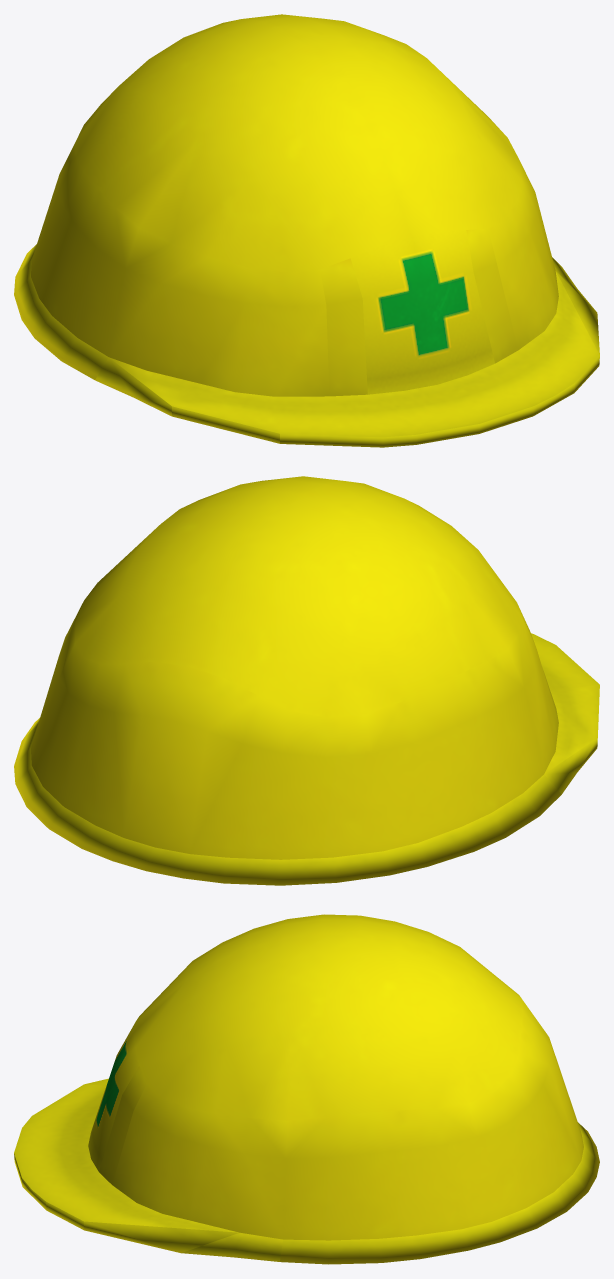
The model's file is constructionCap.fbx.
3 renders of one model, top to bottom at view 1: azimuth 30°, elevation 25°; view 2: azimuth 150°, elevation 25°; view 3: azimuth 270°, elevation 25°, orthographic. The views are drawn at different scales.
Parts seen in each view (by area): view 1: baby_hat; view 2: baby_hat; view 3: baby_hat.
Boxes of the visible parts, left/top/right/bottom form: baby_hat: left=14, top=14, right=599, bottom=447; baby_hat: left=14, top=476, right=599, bottom=885; baby_hat: left=14, top=914, right=599, bottom=1264.
Size of the model in its own units: 9.7 by 5.04 by 11.73.
1 material, 1 textured.
